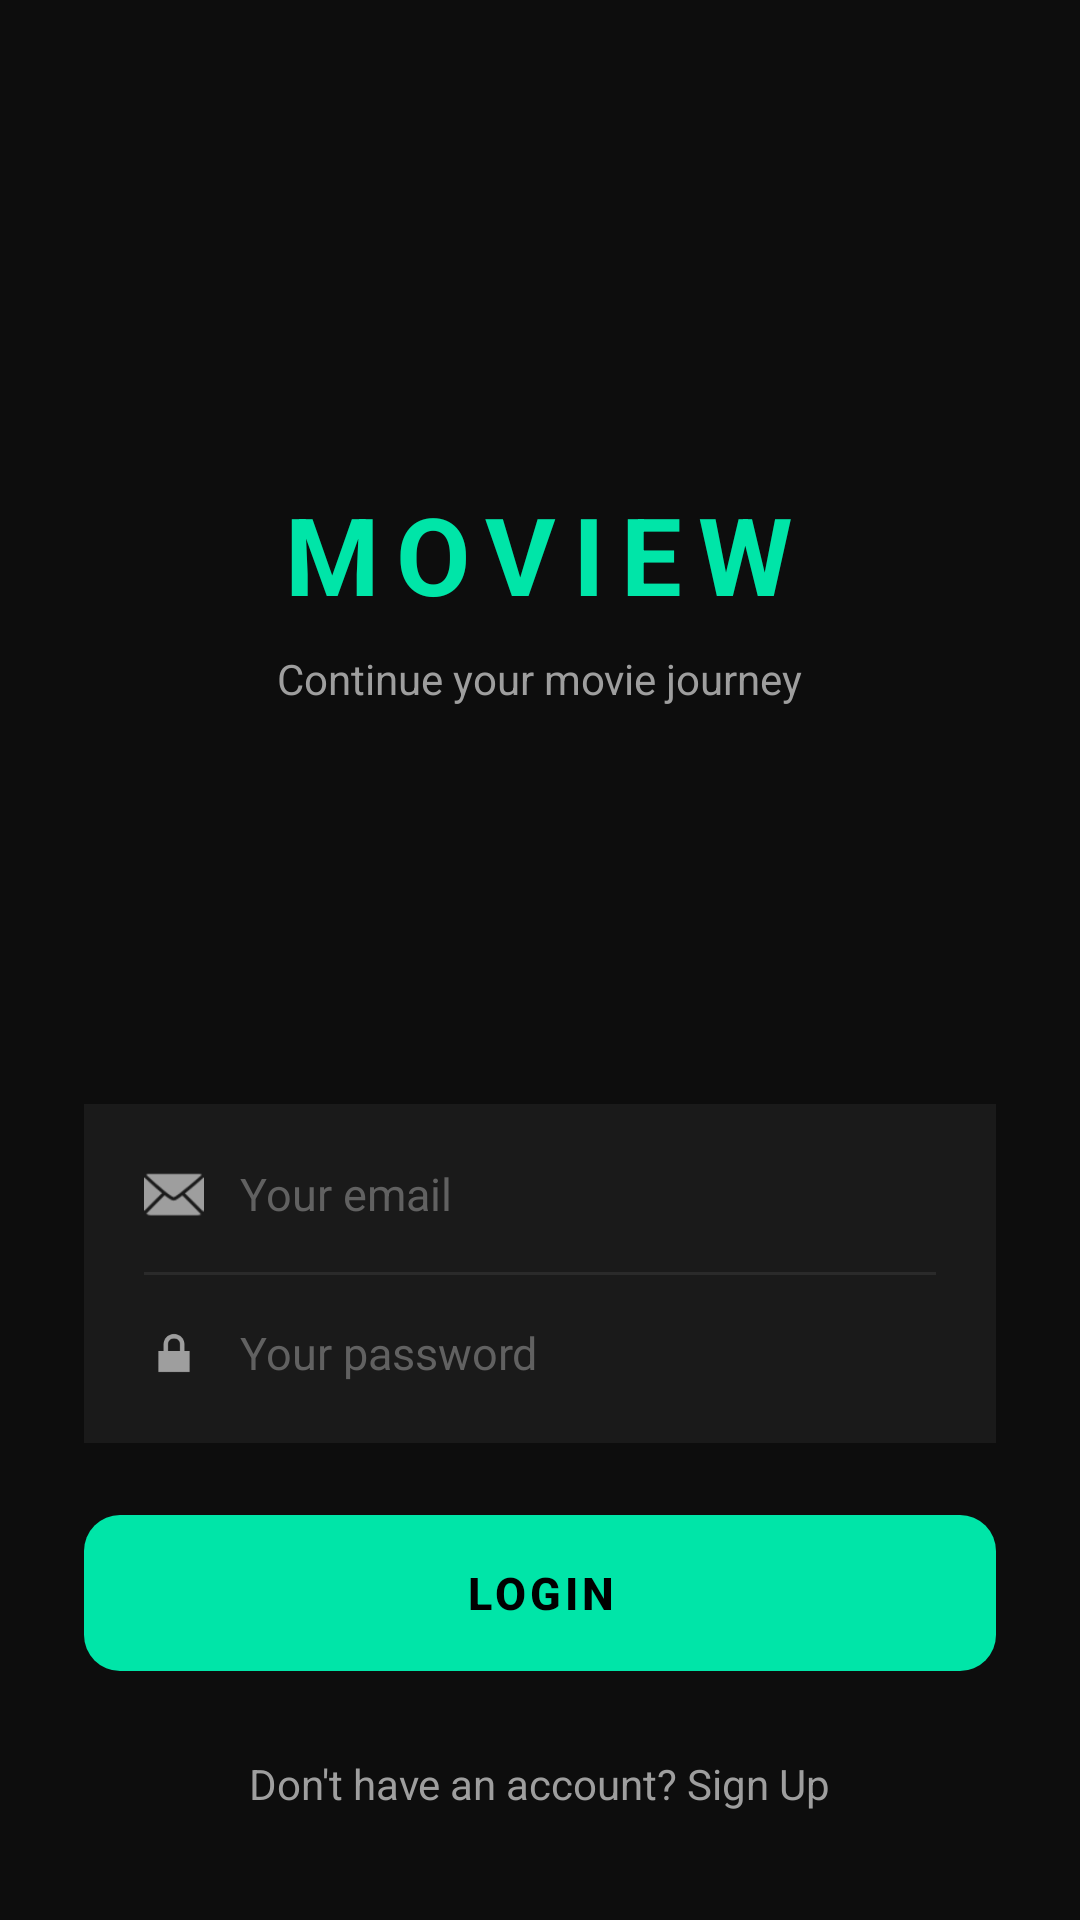

Icon click points for this 1080 x 1920 phone screenshot, format (x=x, y=y):
lock: (x=174, y=1353)
